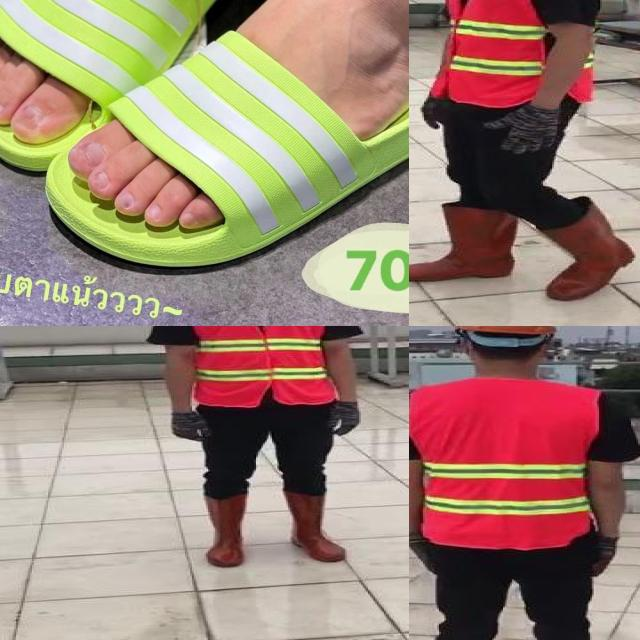Sandals: (0, 0, 409, 277)
boots: (536, 195, 636, 297), (409, 204, 516, 281), (278, 491, 348, 563), (198, 492, 248, 568)
hand_glove: (485, 106, 559, 153), (161, 411, 214, 445), (582, 534, 621, 576), (409, 526, 439, 573), (329, 401, 366, 438), (420, 96, 452, 131)
head_helmet: (453, 326, 556, 341)
person: (409, 326, 640, 640), (409, 0, 640, 306), (143, 326, 367, 571)
vest: (409, 380, 593, 548), (434, 0, 600, 105), (185, 326, 336, 408)
